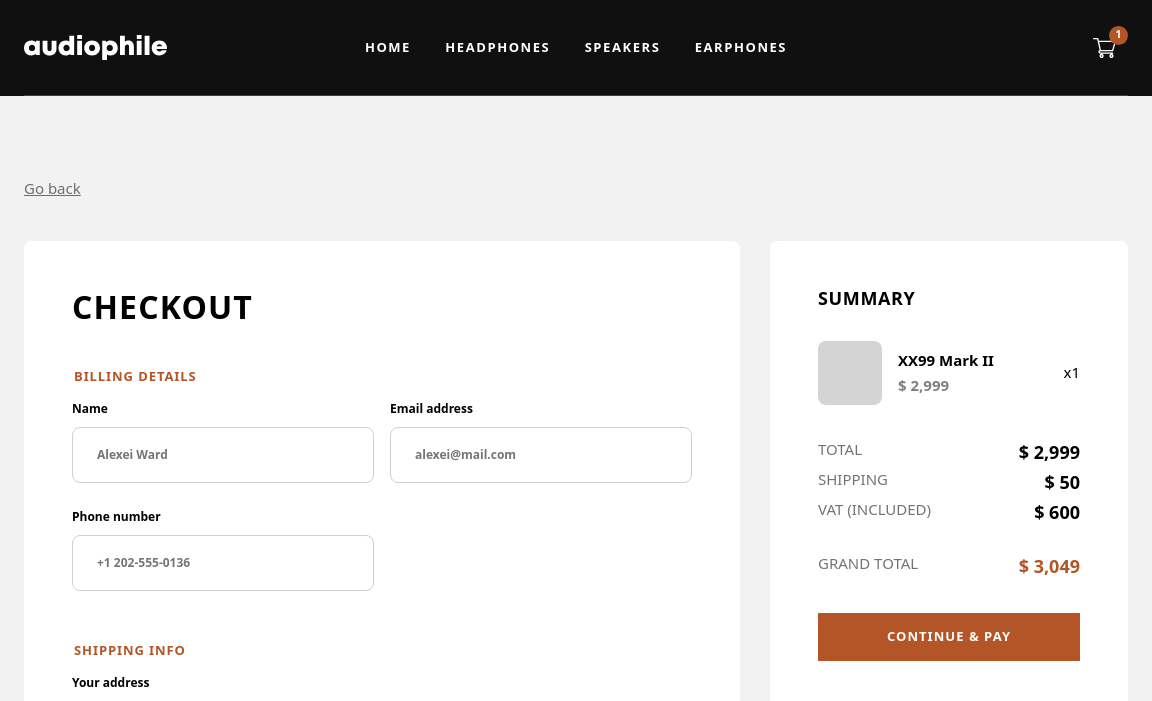
Audiophile storefront › connects checkout errors to invalid fields
Step 1. Click the button "Continue & pay" → point(949, 637), box [818, 613, 1080, 661]
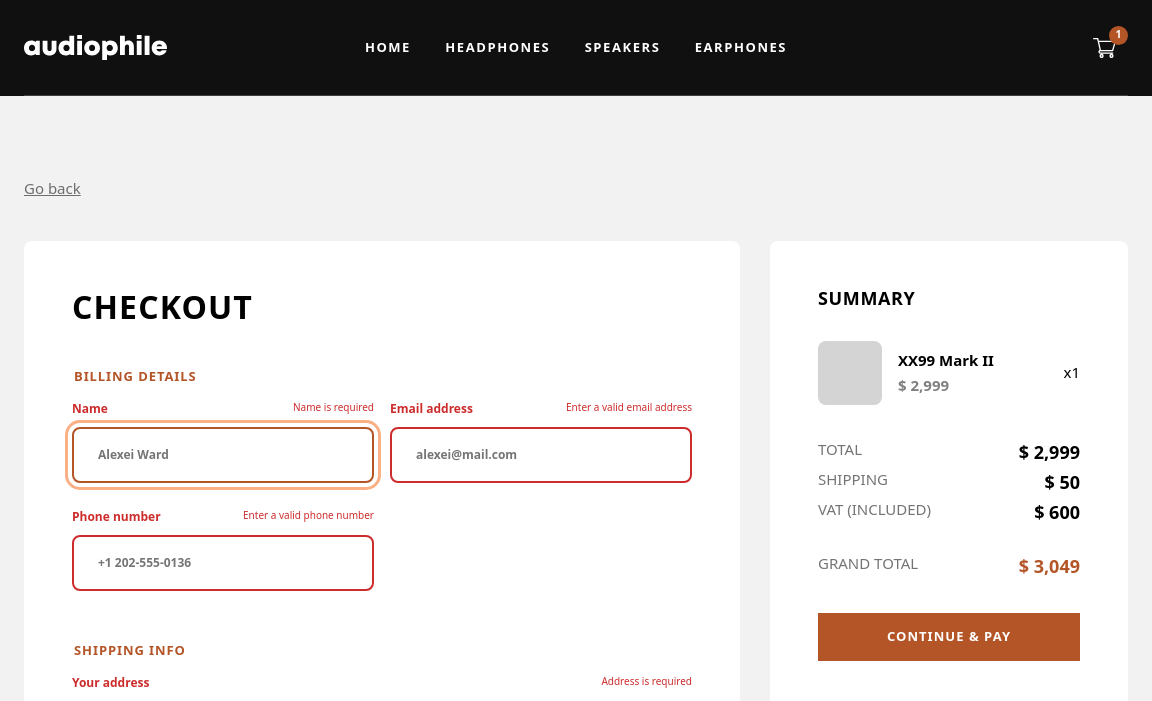
Expected: the text "Enter a valid email address" is shown, [566, 399, 692, 419]
